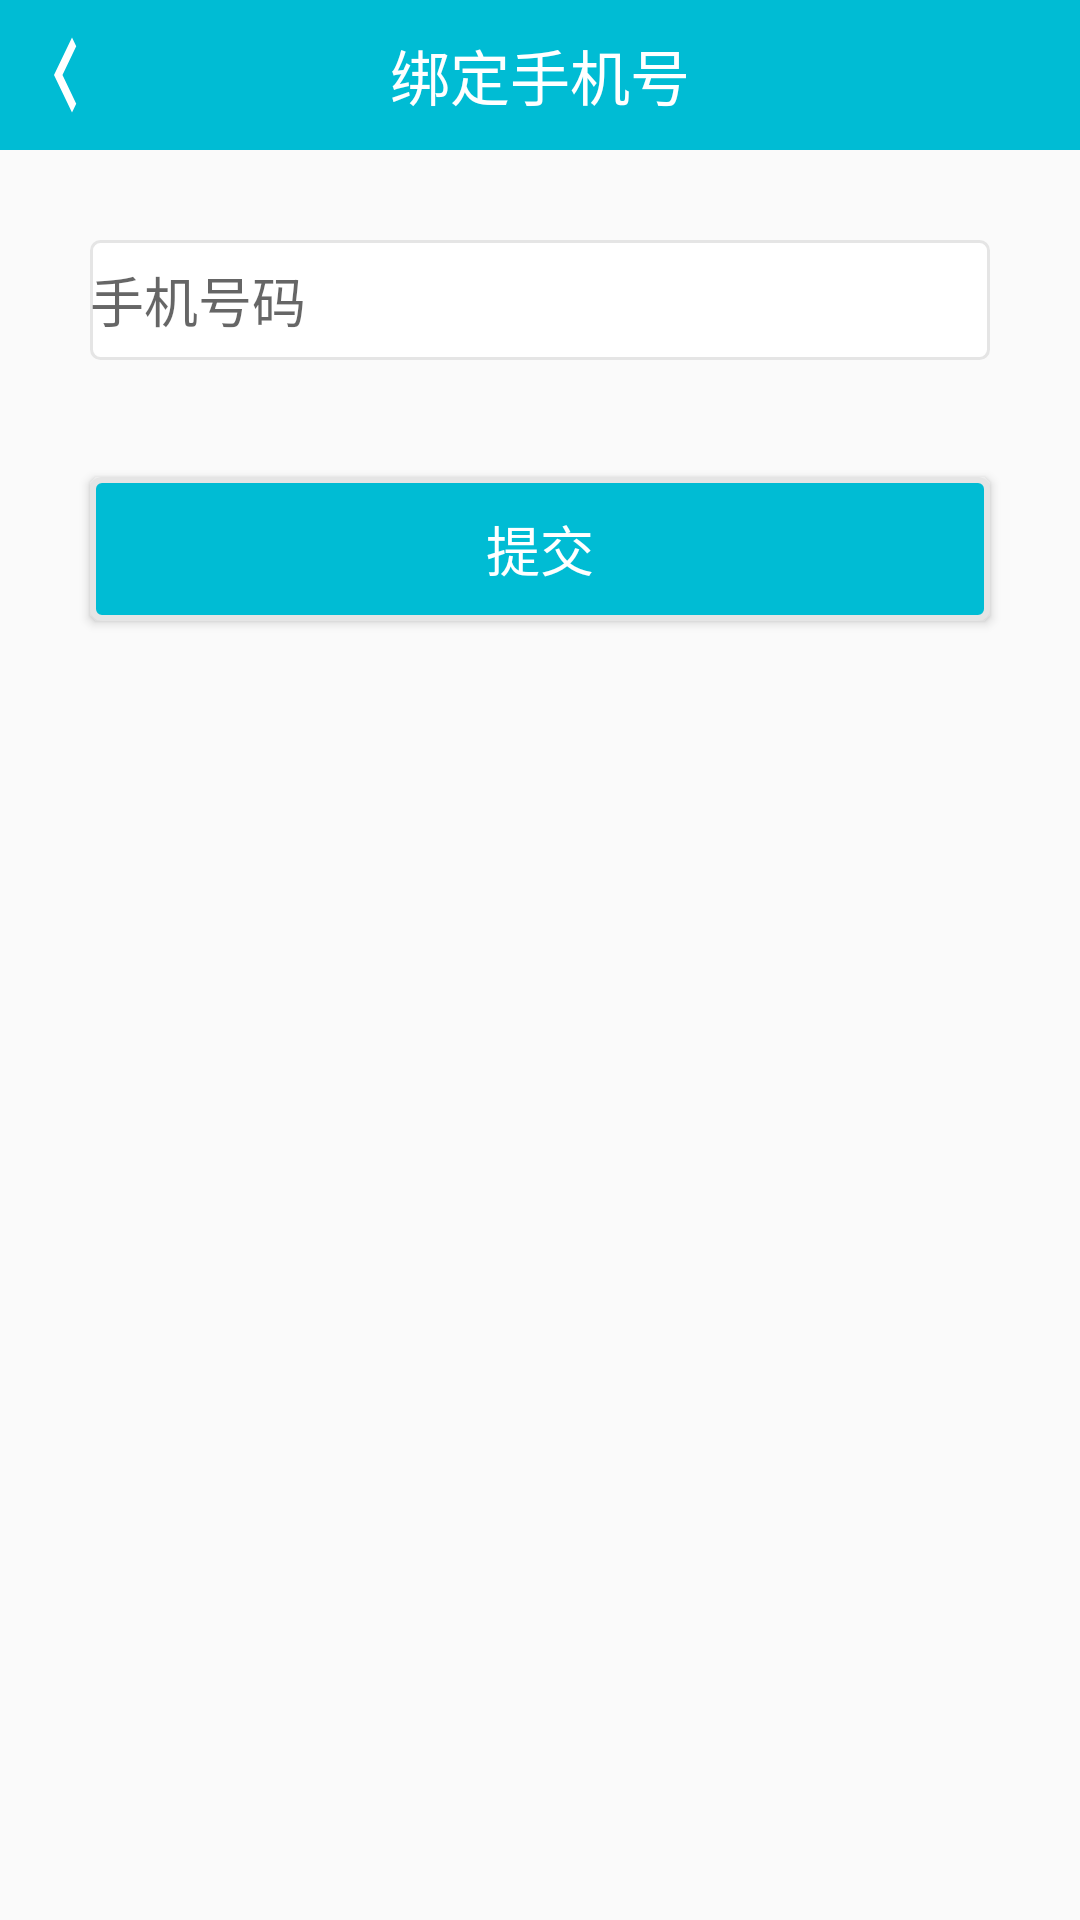

Icon click points for this 1080 x 1920 phone screenshot, format [x,y]:
keyboard arrow left: [65,75]
